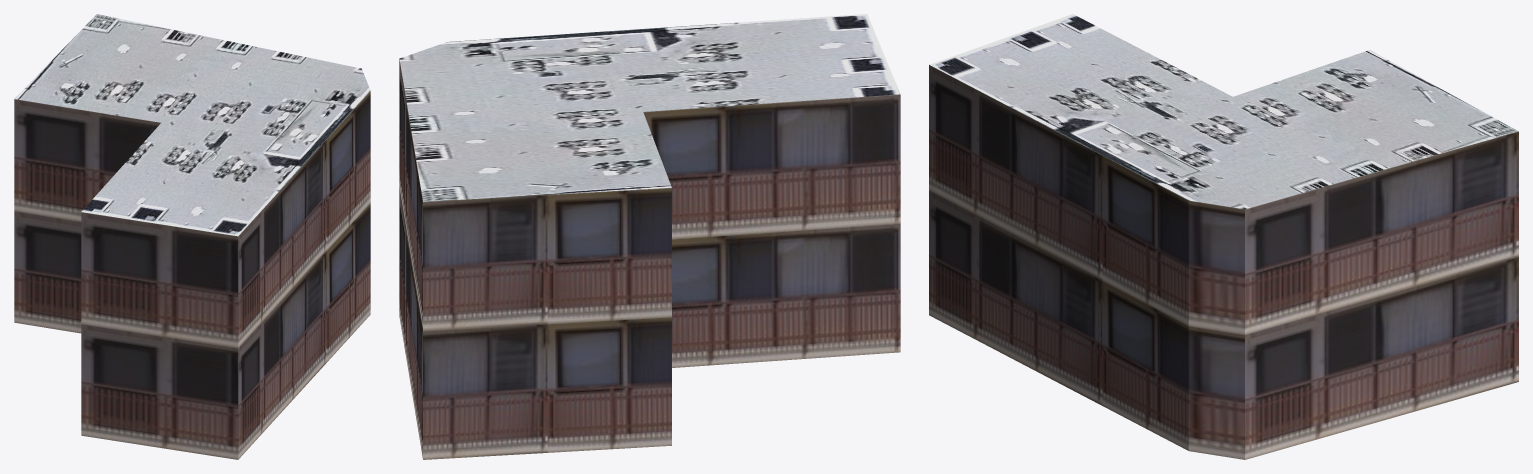
Rendered from ResTex__3.fbx.
The picture shows the model from 3 angles, left to right: view 1: azimuth 30°, elevation 25°; view 2: azimuth 150°, elevation 25°; view 3: azimuth 270°, elevation 25°; orthographic projection. The views are drawn at different scales.
Parts seen in each view (by area): view 1: CityEngineMaterial_6_m, CityEngineMaterial_4_m; view 2: CityEngineMaterial_6_m, CityEngineMaterial_4_m; view 3: CityEngineMaterial_6_m, CityEngineMaterial_4_m.
Boxes of the visible parts, <box> form: CityEngineMaterial_6_m: <box>14,91,370,459</box>; CityEngineMaterial_4_m: <box>14,14,370,236</box>; CityEngineMaterial_6_m: <box>399,59,900,459</box>; CityEngineMaterial_4_m: <box>399,14,900,201</box>; CityEngineMaterial_6_m: <box>929,65,1518,459</box>; CityEngineMaterial_4_m: <box>929,14,1518,209</box>.
Size of the model in its own units: 10.04 by 6 by 12.8.
2 materials, 2 textured.
